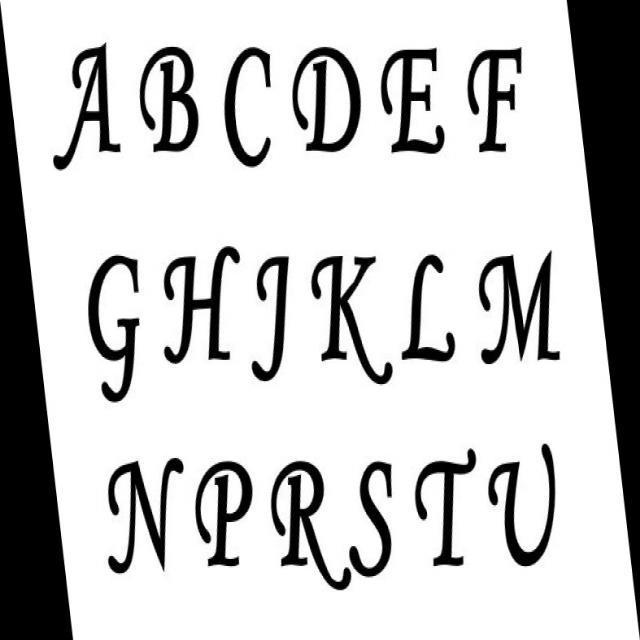A: (49, 32, 127, 170)
B: (136, 32, 201, 160)
C: (219, 40, 276, 173)
D: (286, 43, 367, 159)
E: (378, 43, 452, 161)
F: (459, 43, 526, 163)
G: (72, 249, 141, 407)
H: (155, 237, 240, 370)
J: (245, 251, 298, 391)
K: (304, 251, 394, 391)
L: (400, 248, 462, 368)
M: (466, 248, 564, 365)
N: (102, 452, 185, 578)
P: (266, 457, 350, 593), (193, 456, 256, 572)
S: (352, 457, 401, 588)
T: (410, 443, 478, 573)
U: (486, 440, 572, 569)
